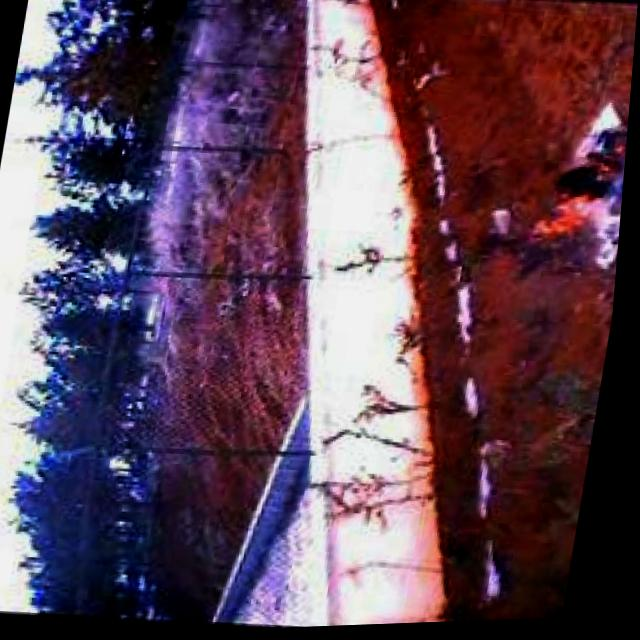Fire: (524, 130, 630, 250)
